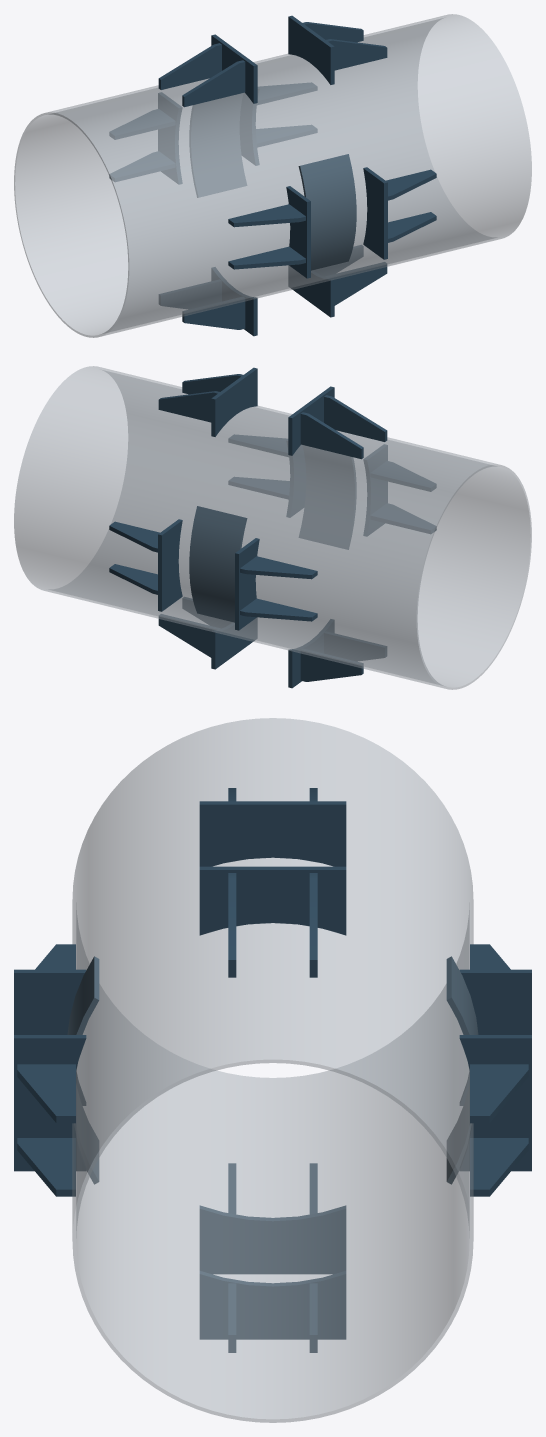
The model's file is TS-668.00.00-08-opora-dn820-ris1.glb.
3 renders of one model, top to bottom at view 1: azimuth 30°, elevation 25°; view 2: azimuth 150°, elevation 25°; view 3: azimuth 270°, elevation 25°, orthographic. The views are drawn at different scales.
Visible parts, largest first — view 1: truba, bok_25, bok_26, upor_7, upor_1, upor_6, upor_5, upor_17, upor_10, upor_13, upor_22, upor_18 (+15 smaller); view 2: truba, bok_26, bok_25, upor_19, upor_1, upor_5, upor_6, upor_18, upor_22, upor_13, upor_10, upor_17 (+15 smaller); view 3: truba, upor_16, upor_4, upor_1, upor_13, upor_7, upor_19, upor_10, upor_22, bok_25, bok_26, upor_8 (+7 smaller).
Part boxes in pixels (x1=…): truba: x1=14, y1=14, x2=531, y2=337; bok_25: x1=298, y1=154, x2=356, y2=270; bok_26: x1=189, y1=93, x2=246, y2=197; upor_7: x1=363, y1=167, x2=387, y2=259; upor_1: x1=288, y1=15, x2=334, y2=84; upor_6: x1=182, y1=60, x2=245, y2=107; upor_5: x1=158, y1=43, x2=221, y2=89; upor_17: x1=182, y1=297, x2=245, y2=329; upor_10: x1=286, y1=186, x2=310, y2=278; upor_13: x1=288, y1=266, x2=334, y2=317; upor_22: x1=158, y1=92, x2=182, y2=184; upor_18: x1=159, y1=279, x2=221, y2=308; truba: x1=14, y1=366, x2=531, y2=689; bok_26: x1=189, y1=506, x2=247, y2=622; bok_25: x1=299, y1=445, x2=356, y2=549; upor_19: x1=158, y1=519, x2=182, y2=611; upor_1: x1=211, y1=367, x2=257, y2=436; upor_5: x1=300, y1=412, x2=363, y2=459; upor_6: x1=324, y1=395, x2=387, y2=441; upor_18: x1=300, y1=649, x2=363, y2=681; upor_22: x1=235, y1=538, x2=259, y2=630; upor_13: x1=211, y1=618, x2=257, y2=669; upor_10: x1=363, y1=444, x2=387, y2=536; upor_17: x1=324, y1=631, x2=386, y2=660; truba: x1=72, y1=718, x2=473, y2=1422; upor_16: x1=199, y1=1205, x2=346, y2=1274; upor_4: x1=199, y1=801, x2=346, y2=866; upor_1: x1=199, y1=866, x2=346, y2=935; upor_13: x1=199, y1=1271, x2=346, y2=1339; upor_7: x1=14, y1=1035, x2=86, y2=1171; upor_19: x1=459, y1=1035, x2=531, y2=1171; upor_10: x1=14, y1=969, x2=86, y2=1105; upor_22: x1=459, y1=969, x2=531, y2=1105; bok_25: x1=67, y1=956, x2=99, y2=1184; bok_26: x1=446, y1=956, x2=478, y2=1184; upor_8: x1=17, y1=1064, x2=75, y2=1123.
Size of the model in its own units: 1652 by 1059 by 1059.
